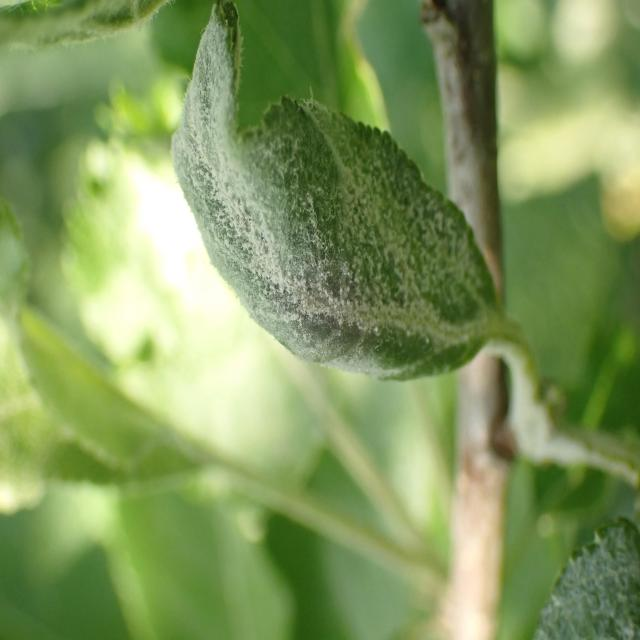Powdery_mildew: (158, 0, 515, 404), (517, 501, 640, 640)
